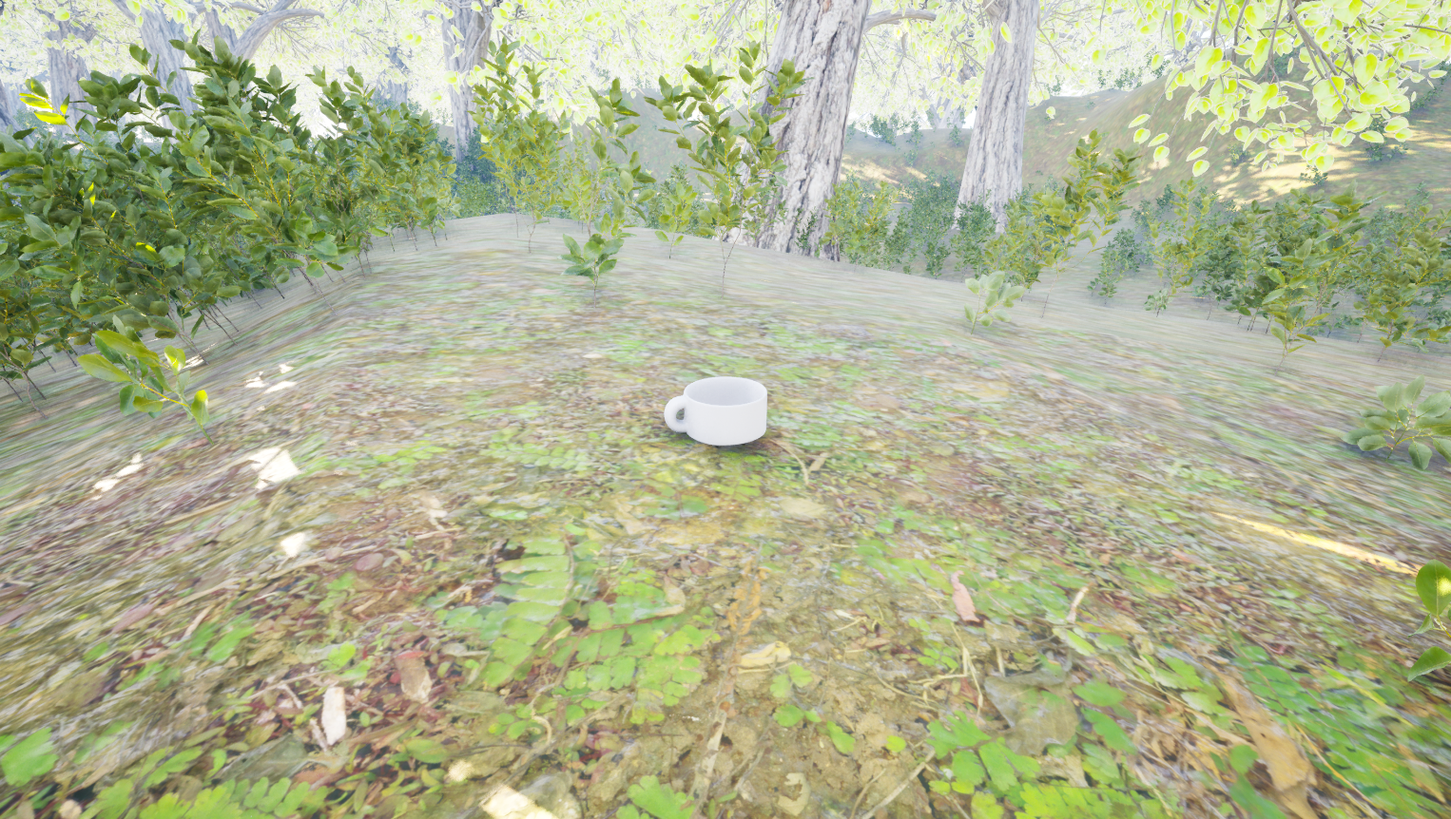Teacup: (659, 372, 776, 451)
